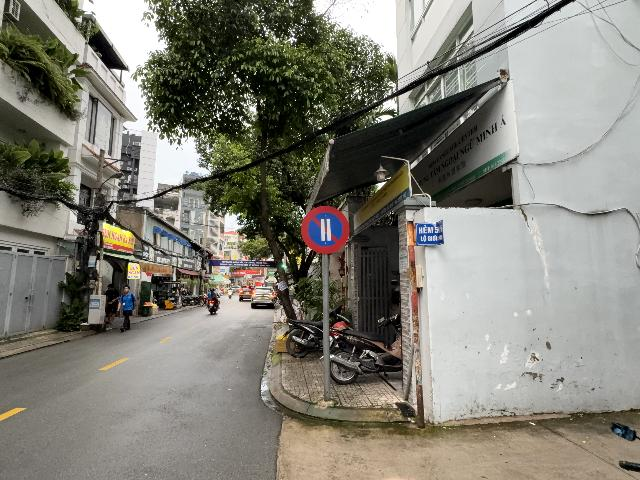cam-do-xe-ngay-chan: (301, 205, 349, 254)
